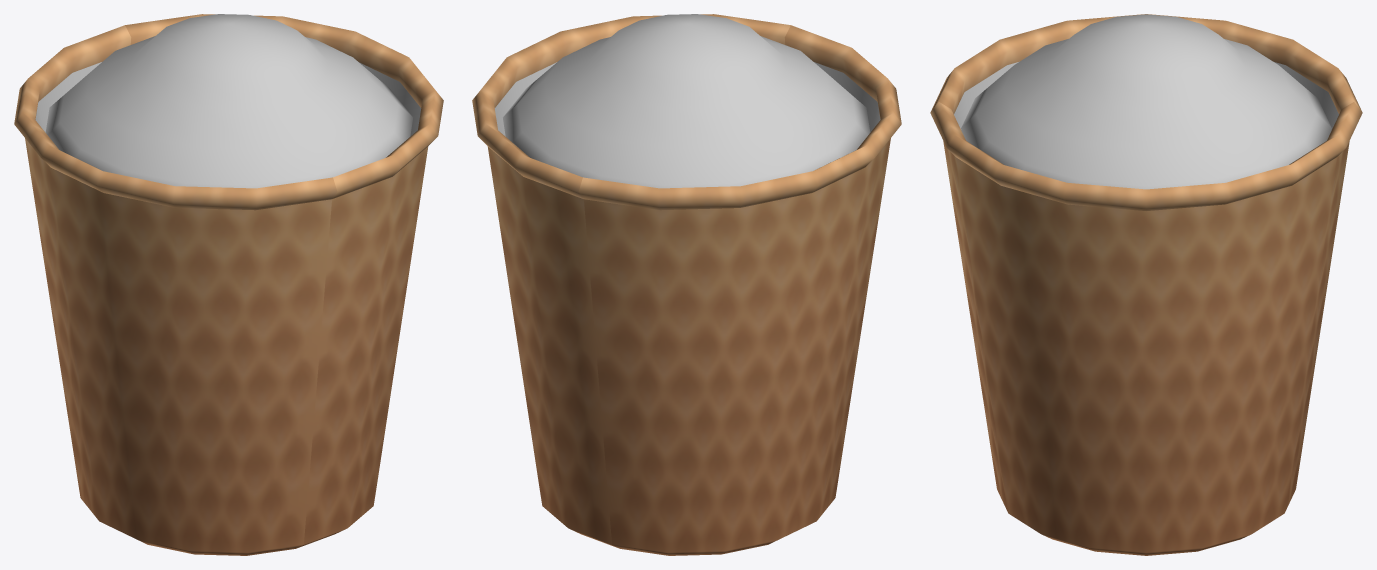
File: 011-Parfait_02.FBX
3 renders of one model, left to right at view 1: azimuth 30°, elevation 25°; view 2: azimuth 150°, elevation 25°; view 3: azimuth 270°, elevation 25°, orthographic.
Parts seen in each view (by area): view 1: 011-Parfait_02-2, 011-Parfait_02-1; view 2: 011-Parfait_02-2, 011-Parfait_02-1; view 3: 011-Parfait_02-2, 011-Parfait_02-1.
Boxes of the visible parts, x1,y1,x2,y2 form: 011-Parfait_02-2: [14, 14, 443, 555]; 011-Parfait_02-1: [45, 14, 412, 188]; 011-Parfait_02-2: [472, 14, 901, 555]; 011-Parfait_02-1: [503, 14, 870, 188]; 011-Parfait_02-2: [930, 14, 1362, 555]; 011-Parfait_02-1: [961, 14, 1331, 189].
Size of the model in its own units: 14.13 by 17.12 by 14.13.
